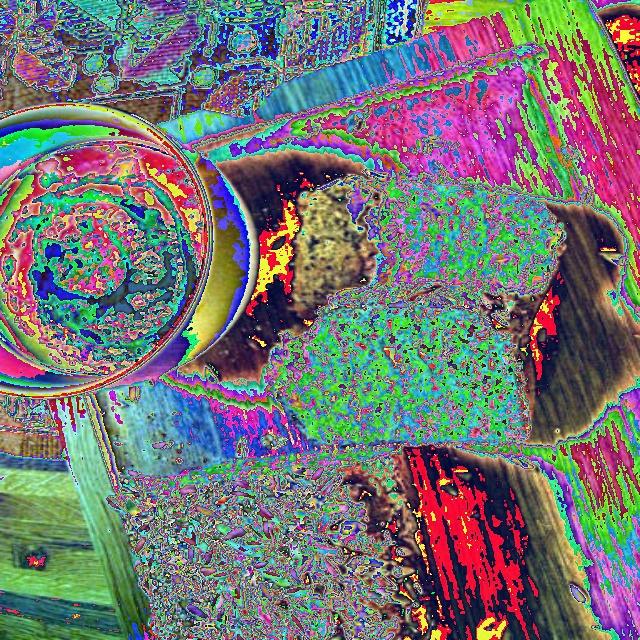background: (104, 169, 566, 639), (0, 139, 204, 377)
